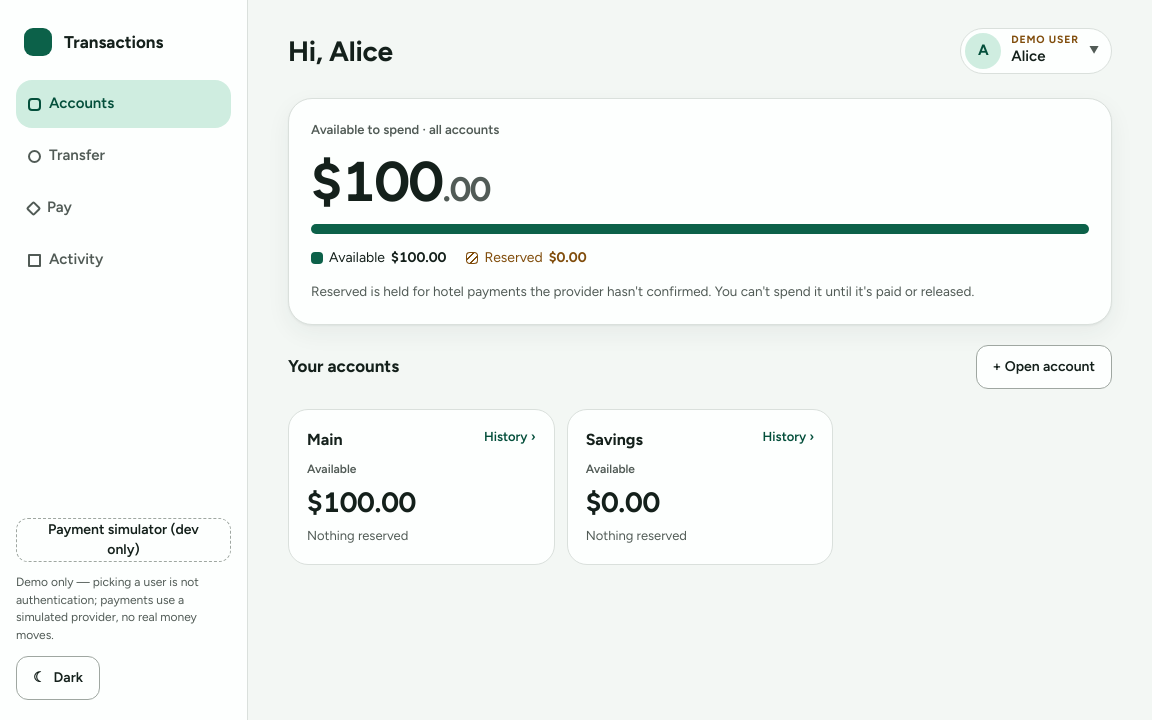
Scenario: Calm wallet UI › 5: shows the server’s insufficient-funds message in the review sheet
This screenshot has width=1152, height=720.
Check: the heading "Hi, Alice" is shown, box [288, 31, 393, 71]
Check: the element named "Balance summary" is shown, box [288, 98, 1112, 325]
Click the button "Transfer": x=124, y=156 [16, 132, 231, 180]
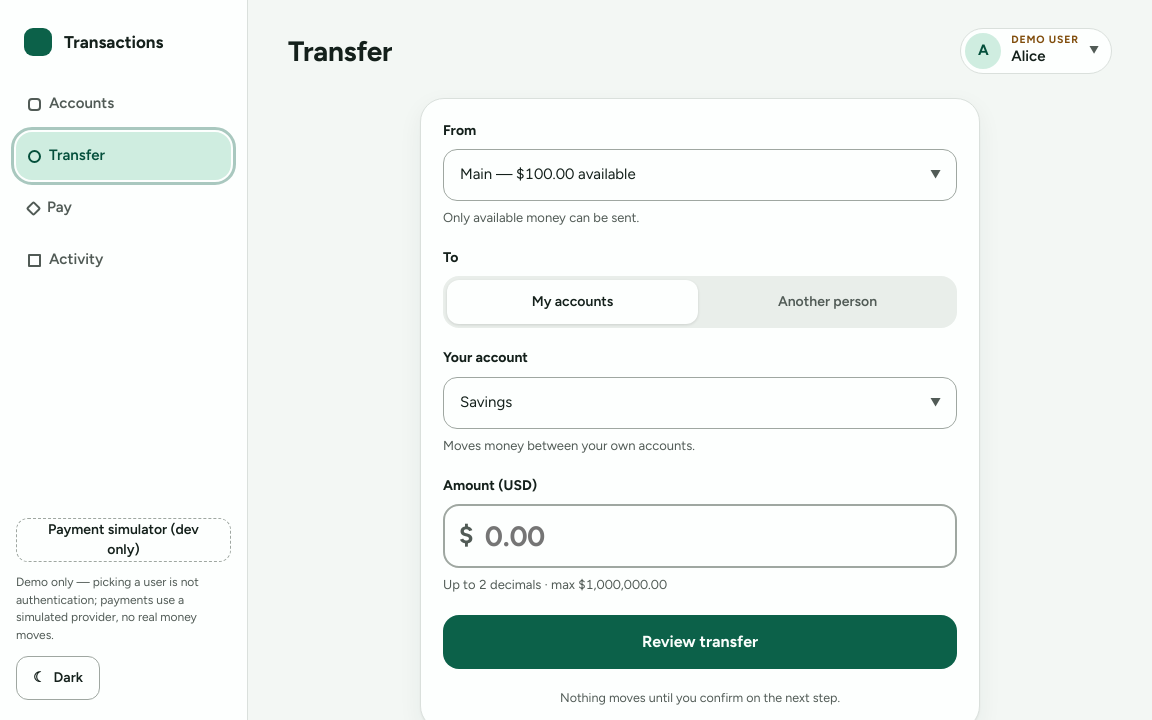
In the field labelled "Amount (USD)": x=700, y=536 [443, 504, 957, 568], type "500"
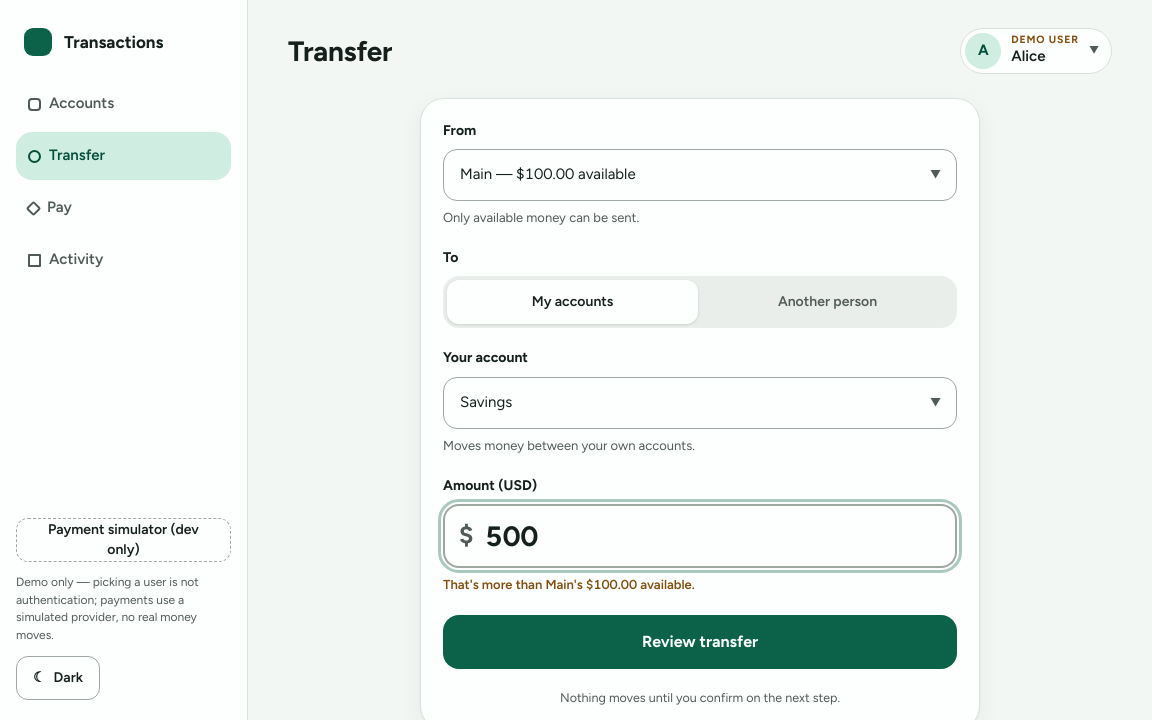
Check: the text "That's more than Main's $100.00 available." is shown, box [443, 577, 695, 592]
Click the button "Review transfer": x=700, y=642 [443, 615, 957, 669]
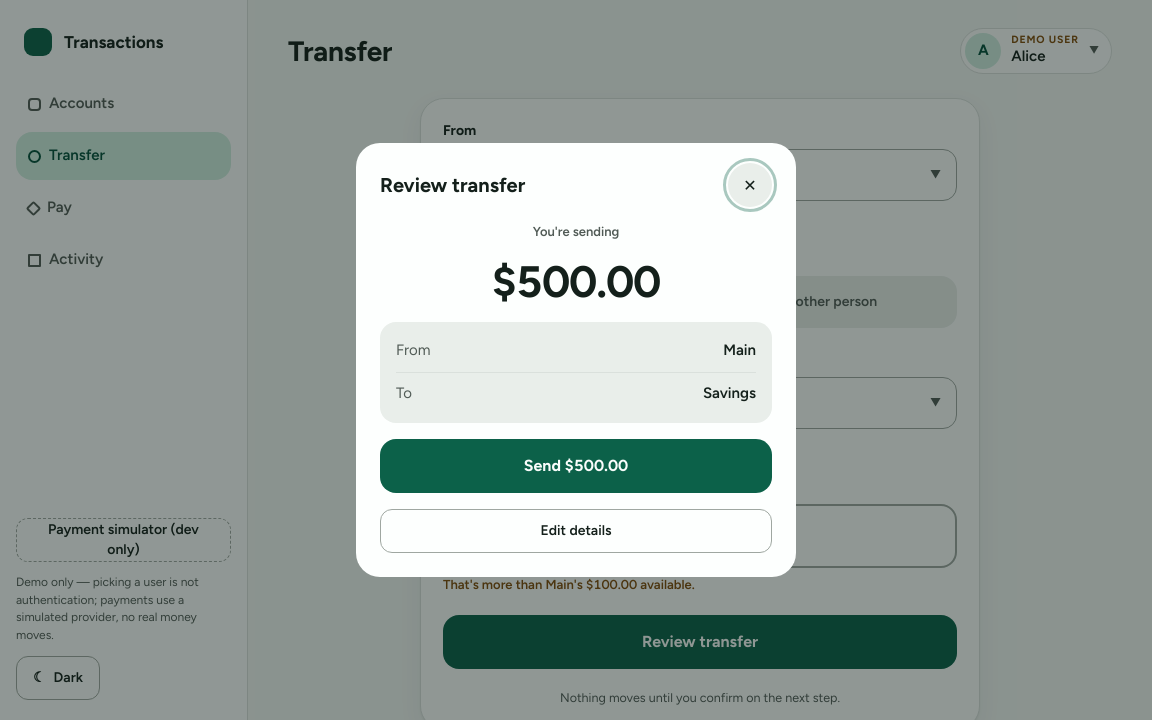
Click the button "Send $500.00": x=576, y=466 [380, 439, 772, 493]
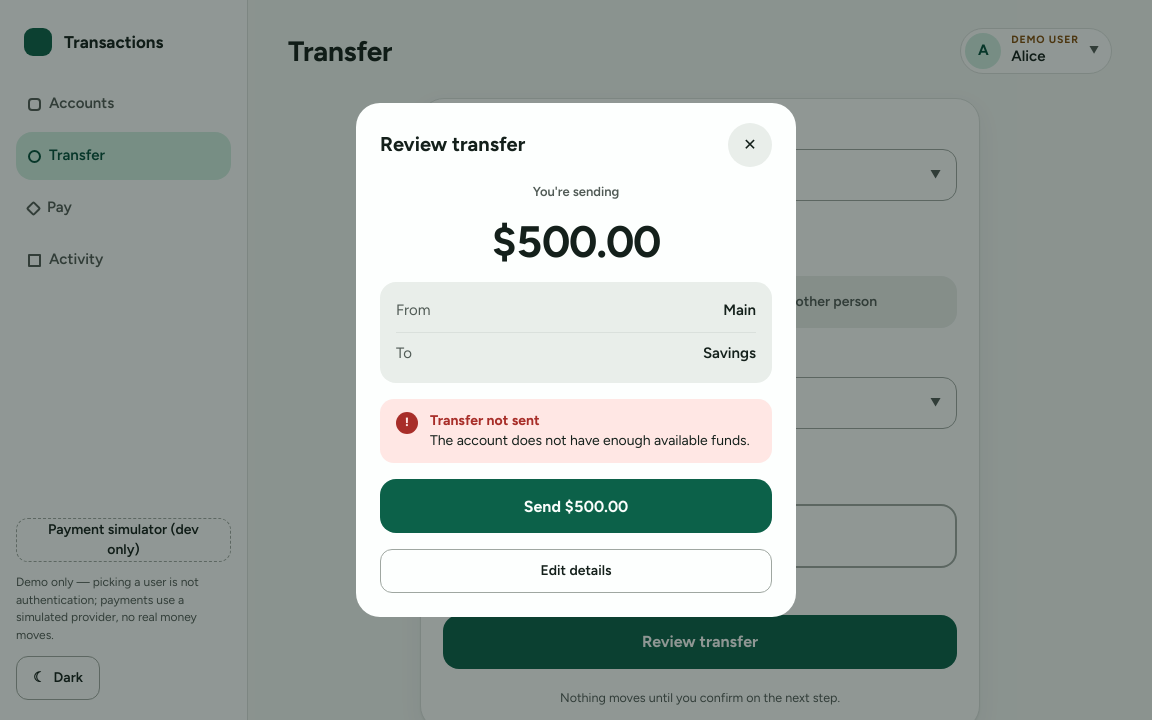
Check: the message shows "Transfer not sent", box [430, 412, 540, 429]
Check: the message shows "The account does not have enough available funds.", box [430, 432, 750, 449]
